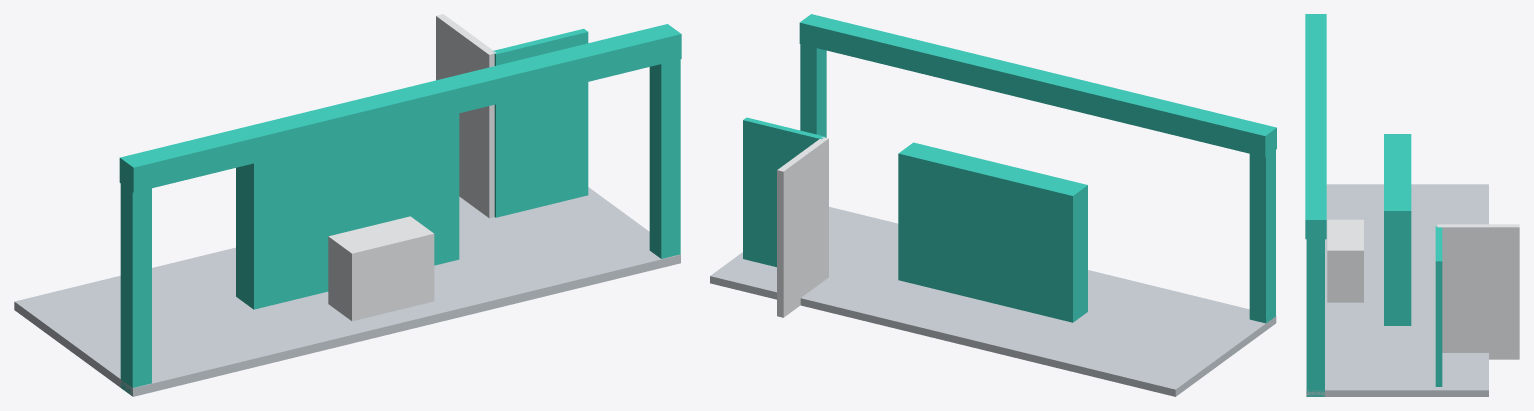
The picture shows the model from 3 angles, left to right: view 1: azimuth 30°, elevation 25°; view 2: azimuth 150°, elevation 25°; view 3: azimuth 270°, elevation 25°; orthographic projection. The views are drawn at different scales.
Visible parts, largest first — view 1: Exhibition Booth Concept; view 2: Exhibition Booth Concept; view 3: Exhibition Booth Concept.
Part boxes in pixels (x1,y1,x2,y2): Exhibition Booth Concept: (14,14,681,396); Exhibition Booth Concept: (710,14,1276,396); Exhibition Booth Concept: (1305,14,1519,396).
Size of the model in its own units: 8 by 3.2 by 3.52.
